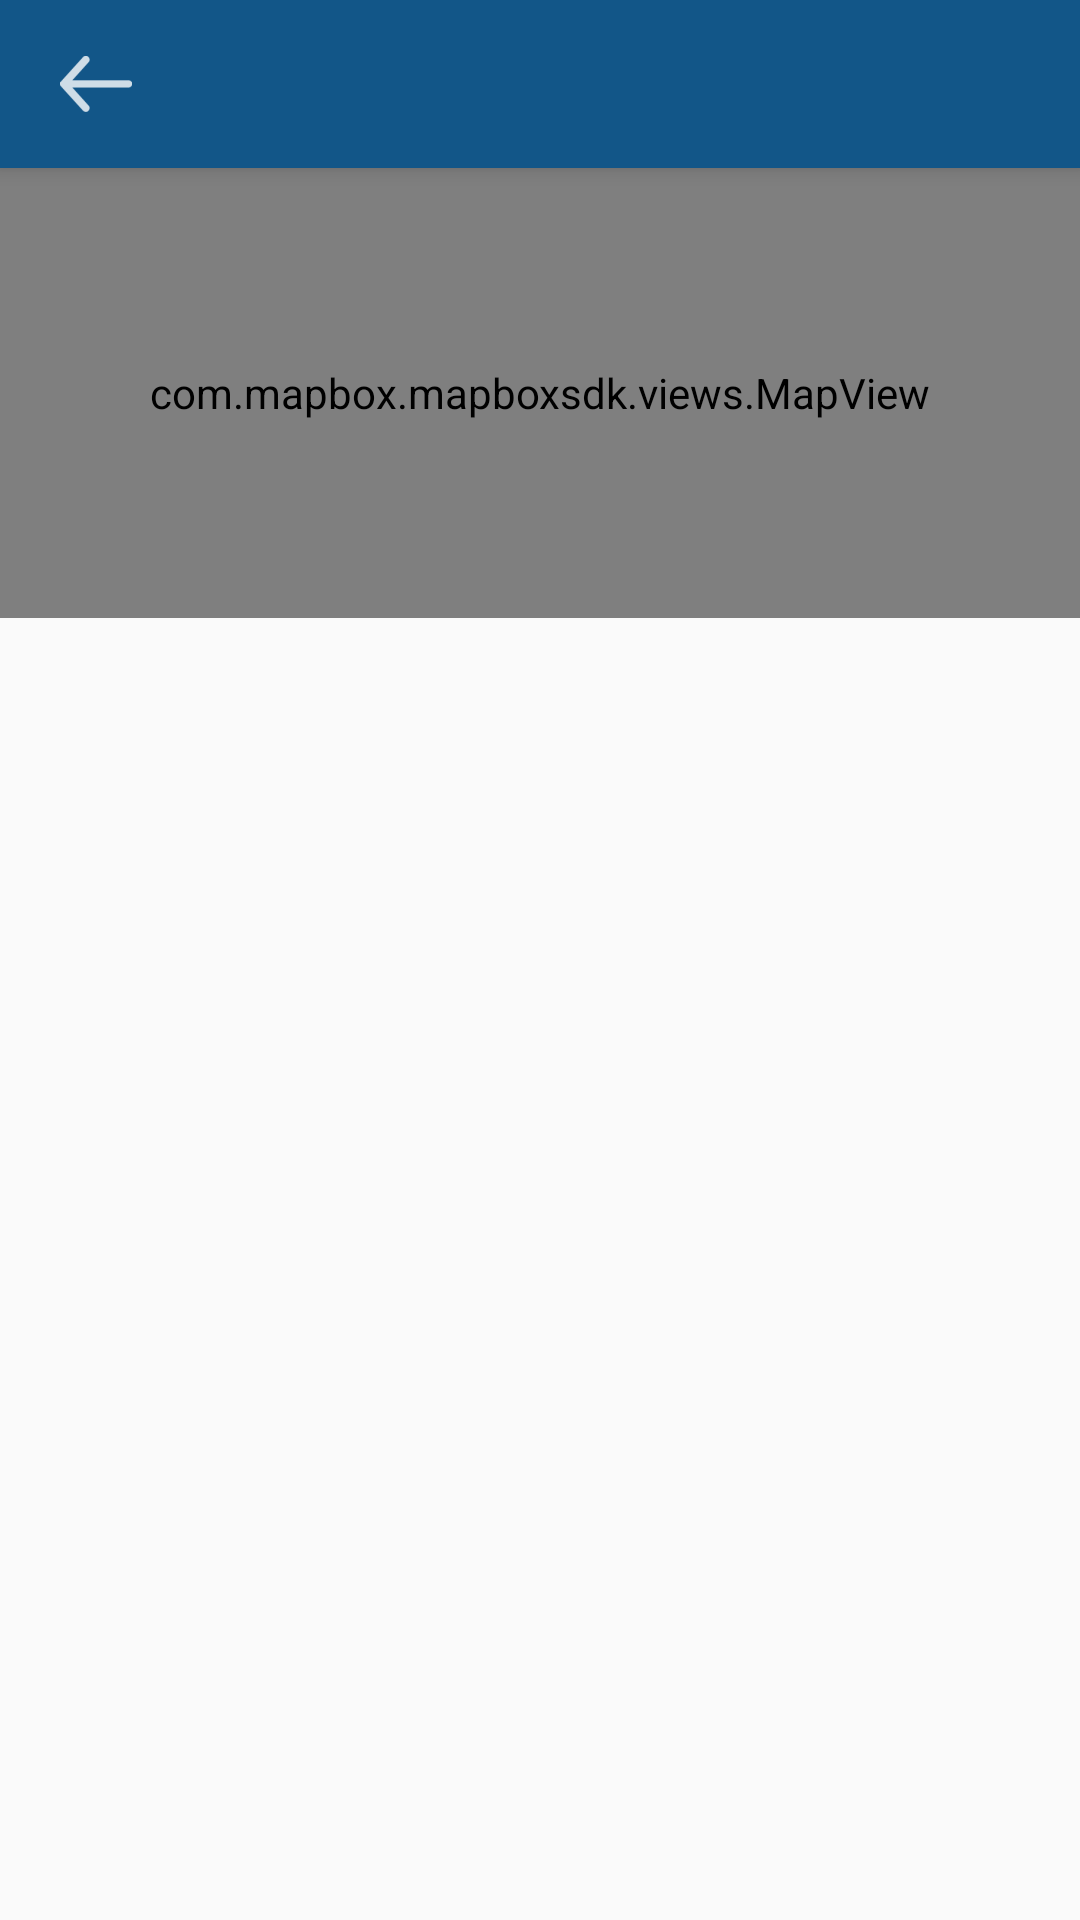

Icons on this 1080×1920 Android screen, each with the point to tap as (x,y):
return: (96,84)
